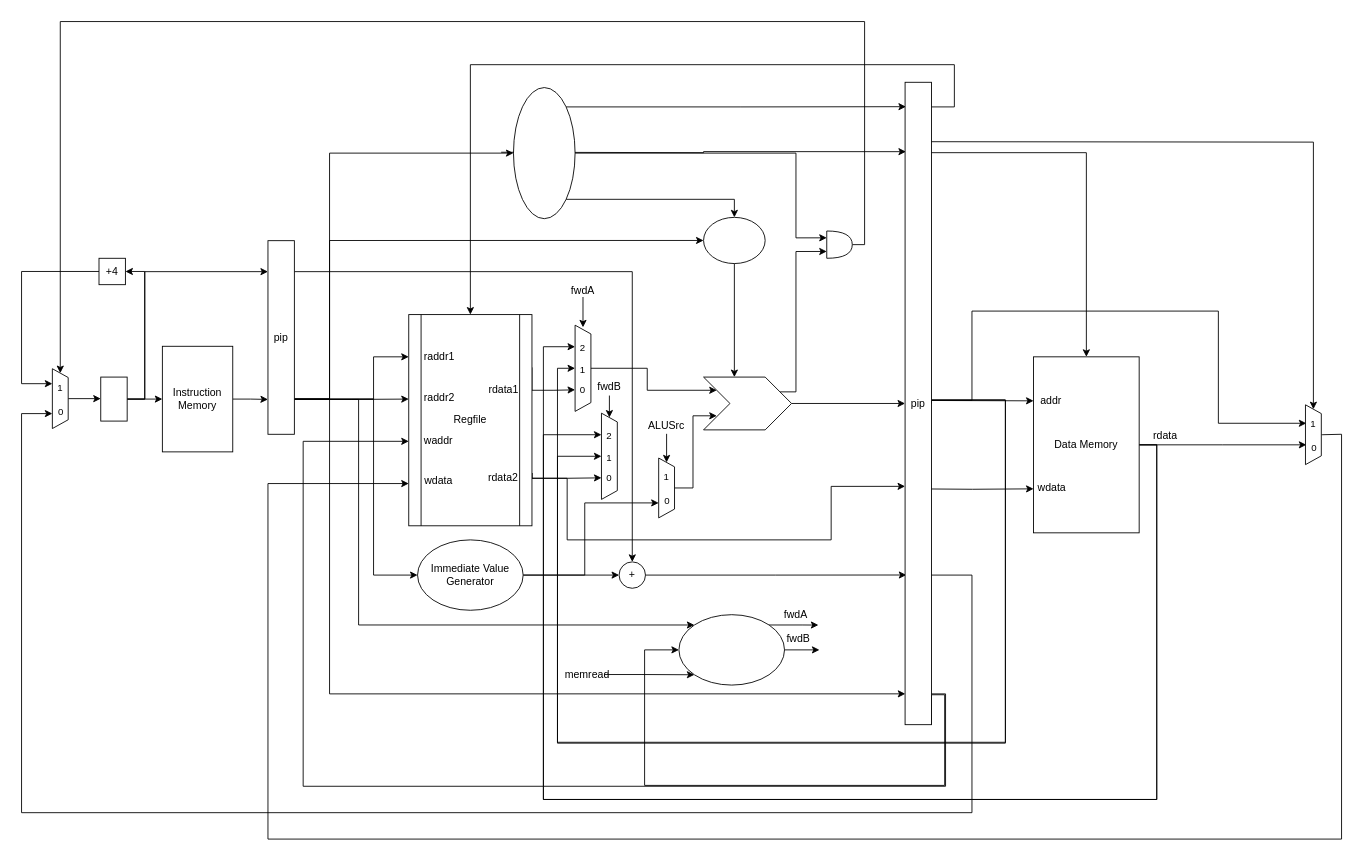
The diagram is 1364 pixels wide and 862 high, and some of its shapes have lost their labels. The centre of each missing label's shape, as x and y in pixels:
"ALU" belongs at point 747,403.
"ALU Control" belongs at point 734,240.
"Controller" belongs at point 544,153.
"Forwarding Unit" belongs at point 731,649.
"PC" belongs at point 113,398.
